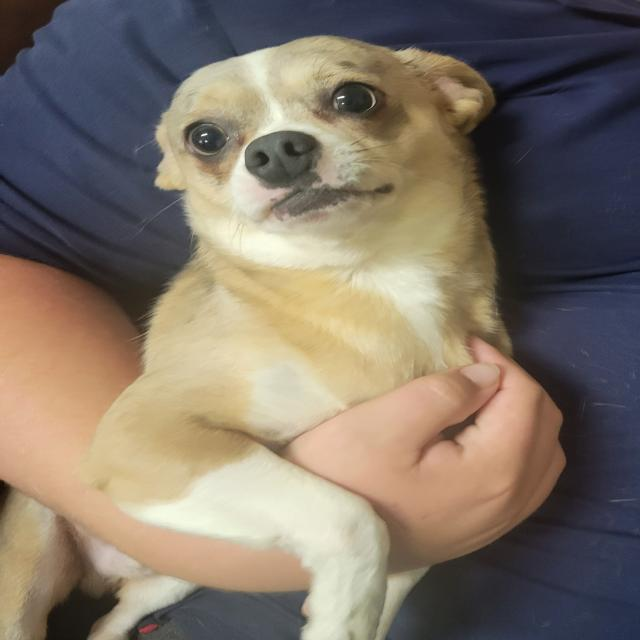chihuahua_dog: (119, 26, 546, 314)
